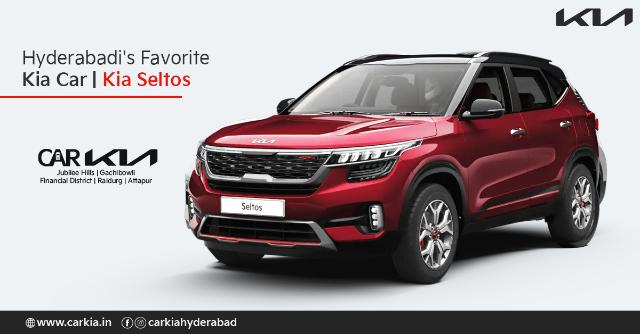kia: (185, 51, 607, 285)
